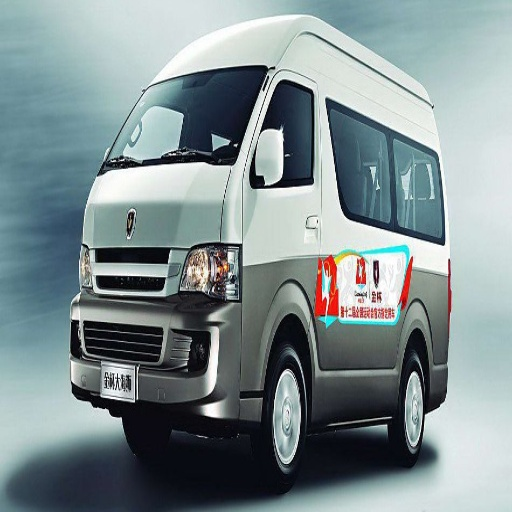back_left_door: (321, 91, 390, 187)
front_bumper: (71, 244, 250, 416)
front_glass: (106, 70, 265, 169)
front_left_door: (245, 74, 324, 223)
trunk: (252, 238, 441, 399)
